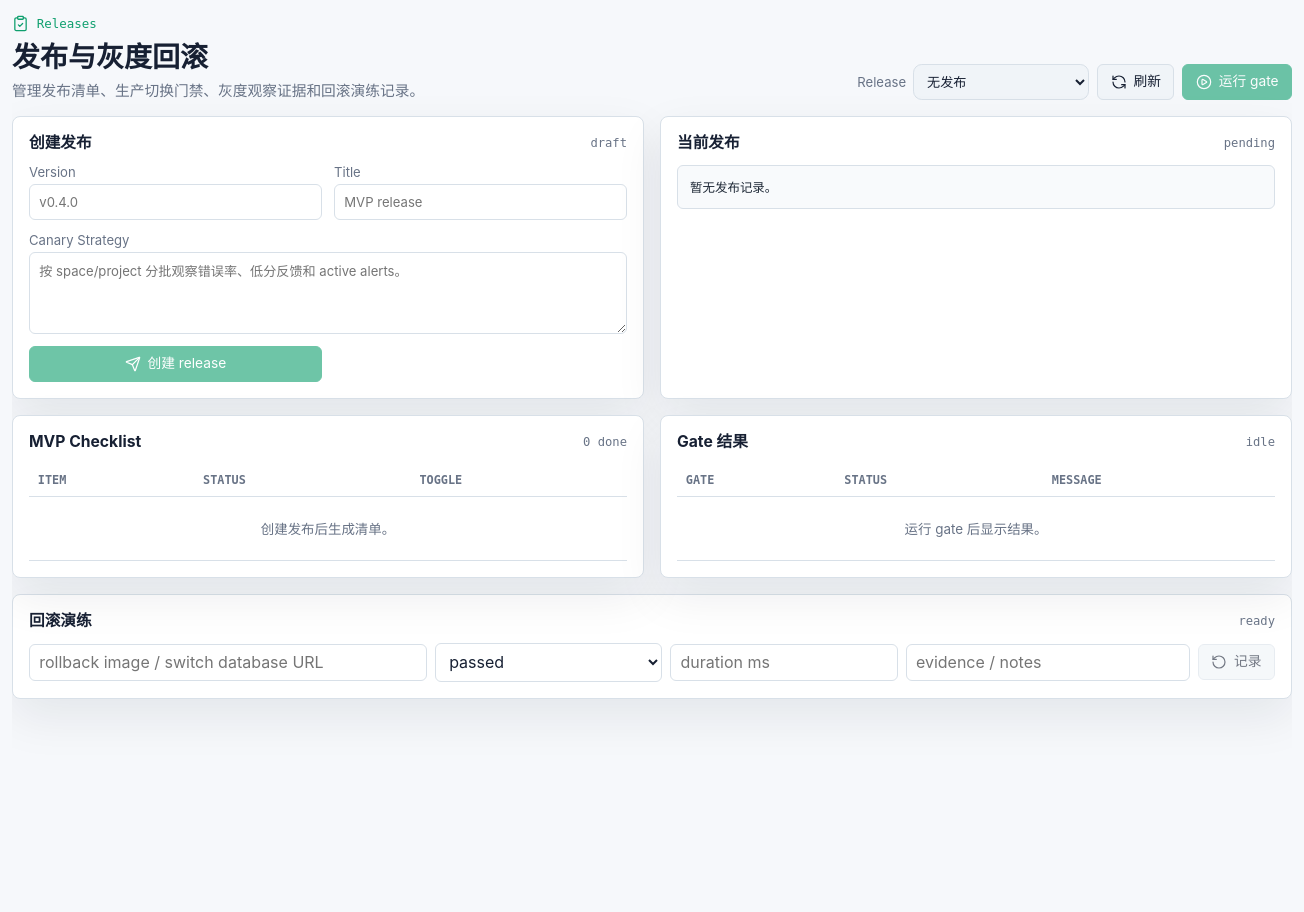
Scenario: ReleasesPage › disables create release until version and title are filled
Expected: the button with test id "release-create" is disabled, [29, 346, 322, 382]
Type "v9.9.9" into the field with test id "release-version" at (176, 202), box [29, 184, 322, 220]
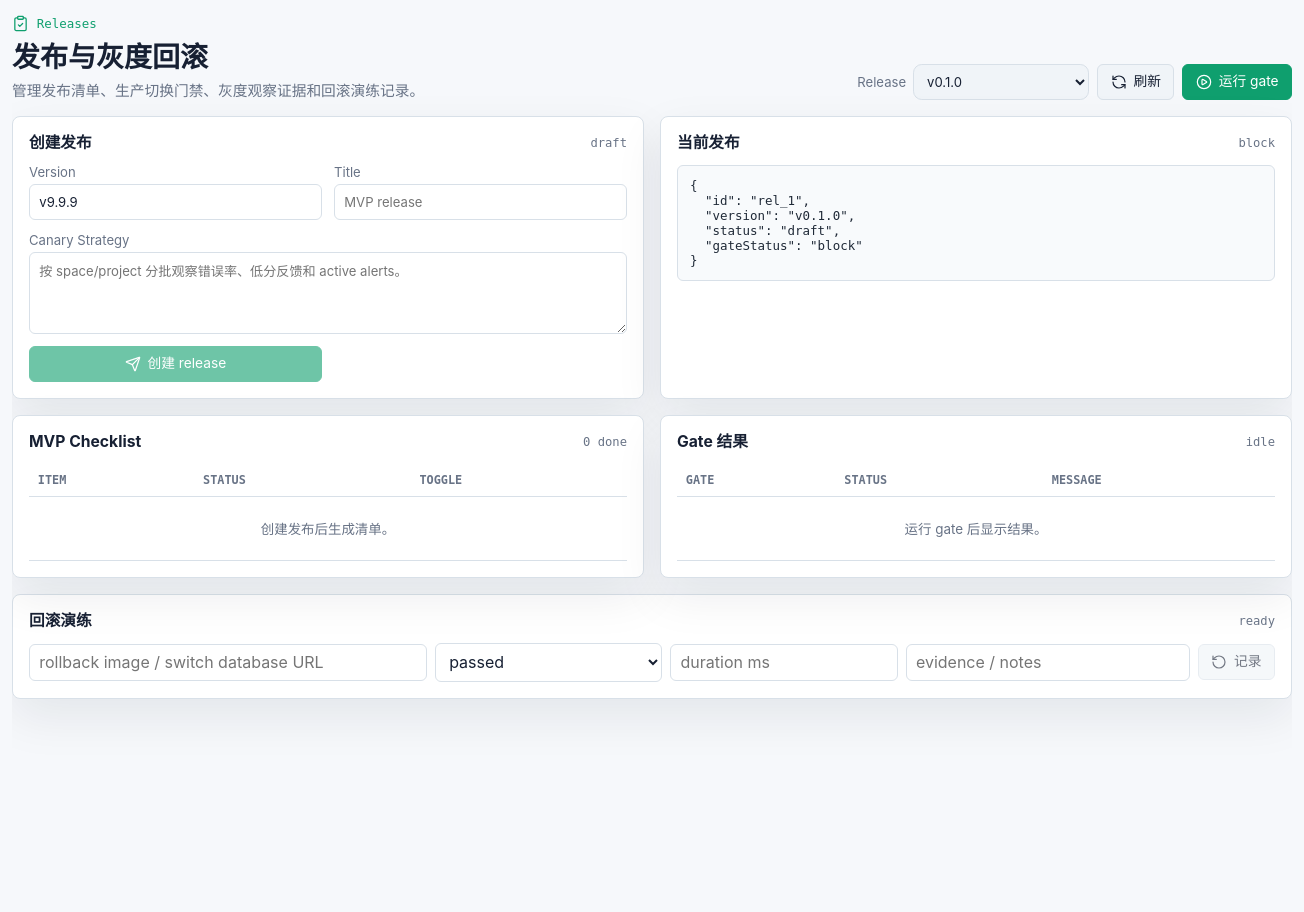
Expected: the button with test id "release-create" is disabled, [29, 346, 322, 382]
Type "spot title" into the field with test id "release-title" at (480, 202), box [334, 184, 627, 220]
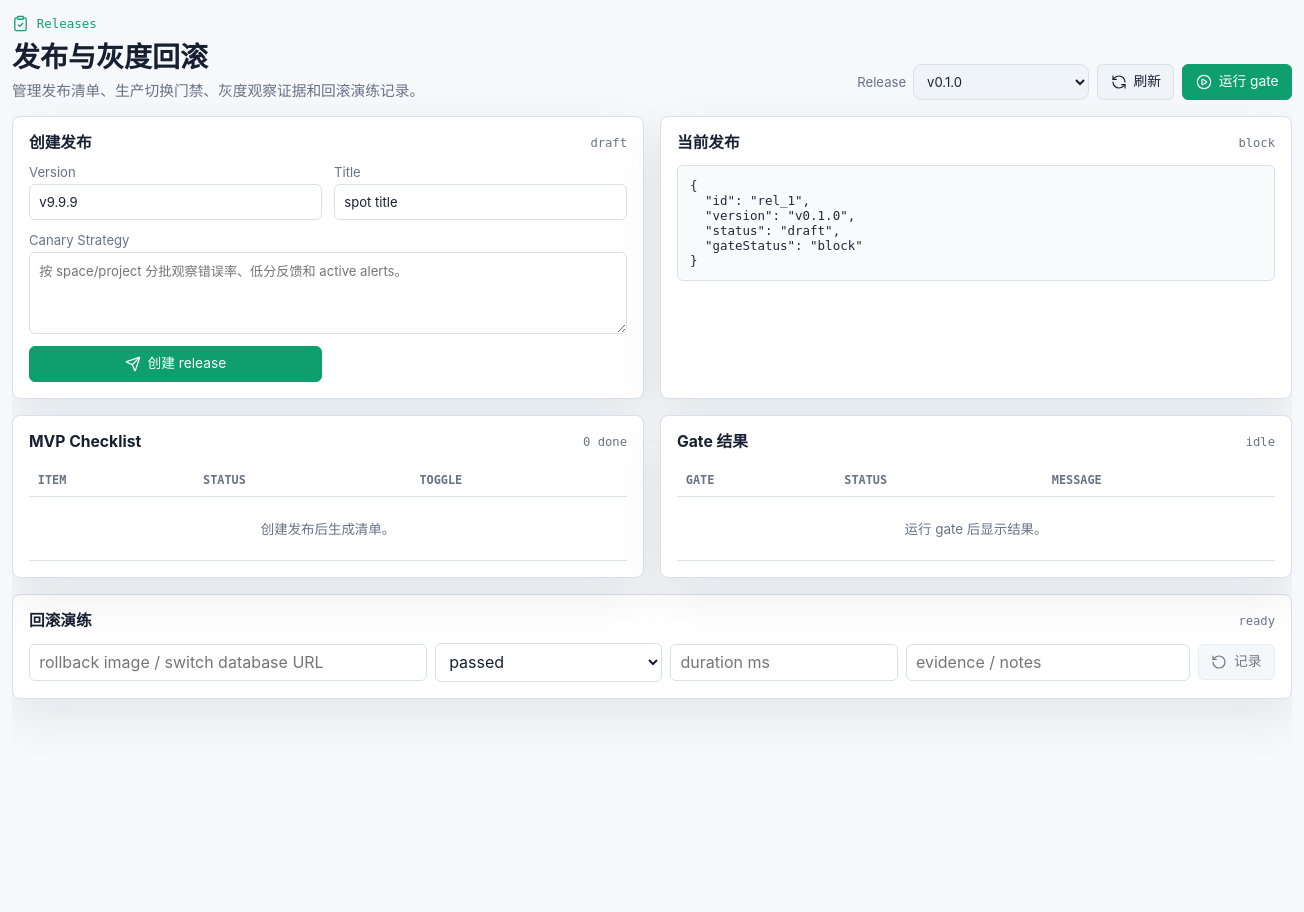
Now the button with test id "release-create" is enabled, box [29, 346, 322, 382]
